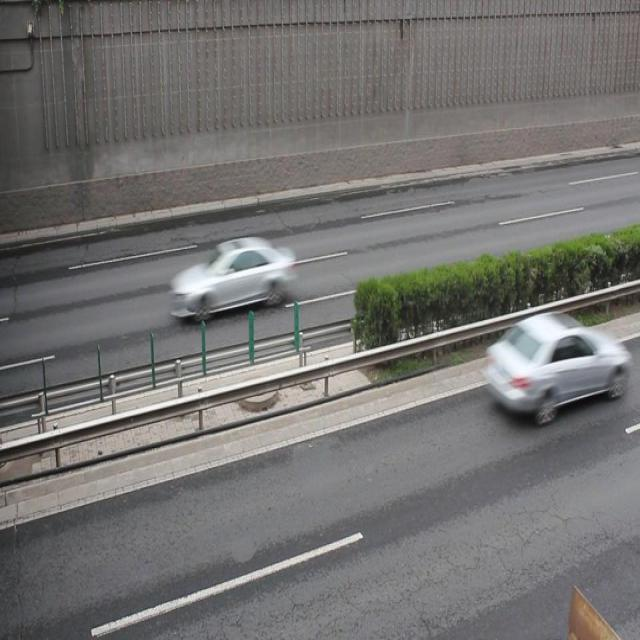car: (483, 314, 619, 422), (167, 238, 294, 320)
